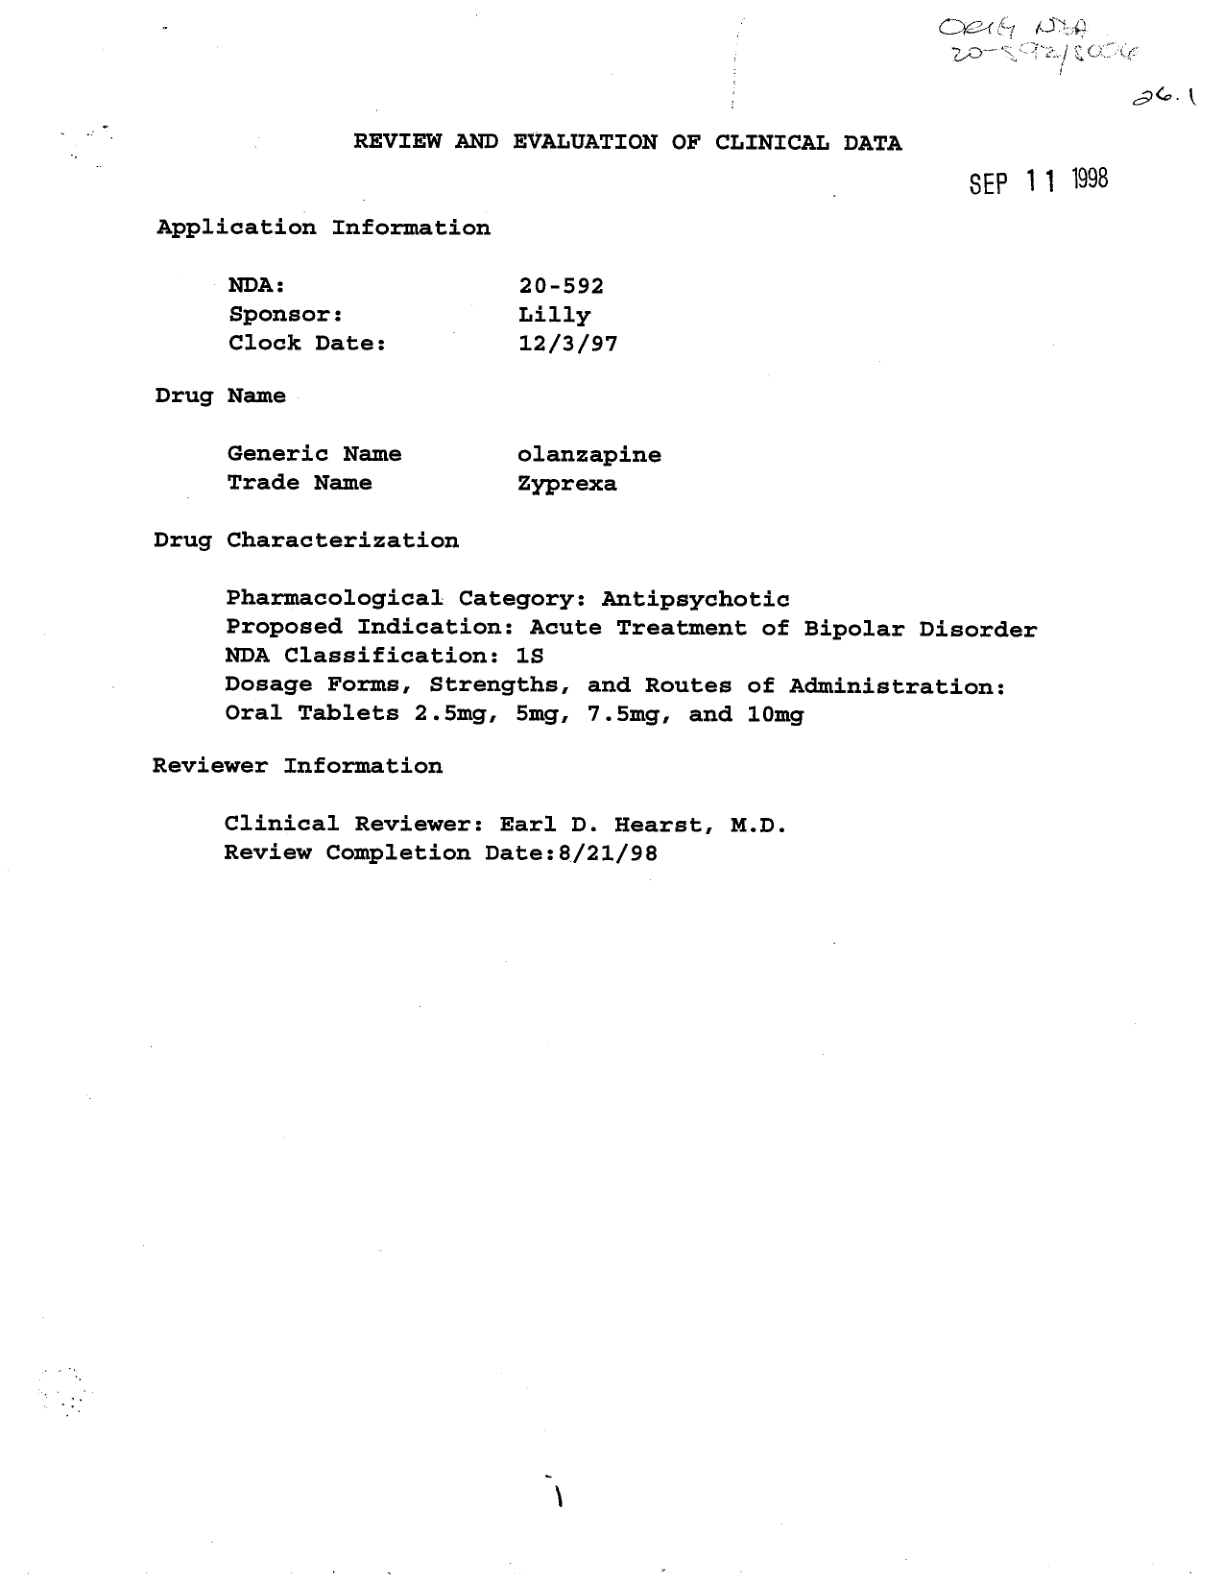nolines: (223, 267, 622, 358), (223, 440, 667, 497)
